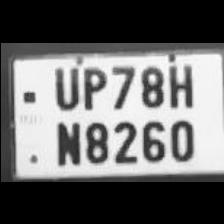0: (166, 114, 196, 162)
2: (109, 115, 138, 163)
6: (139, 116, 166, 162)
7: (107, 61, 134, 109)
8: (80, 115, 108, 163), (136, 61, 163, 107)
H: (162, 58, 198, 108)
N: (50, 115, 80, 163)
P: (77, 61, 107, 109)
U: (47, 61, 80, 109)
